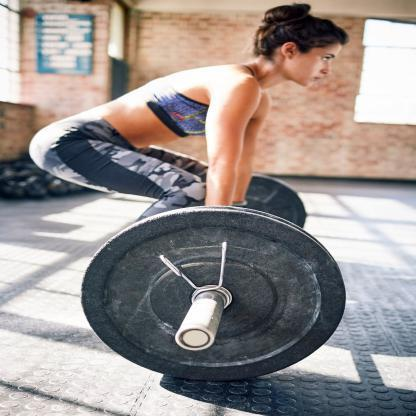barbell: (79, 171, 348, 384)
